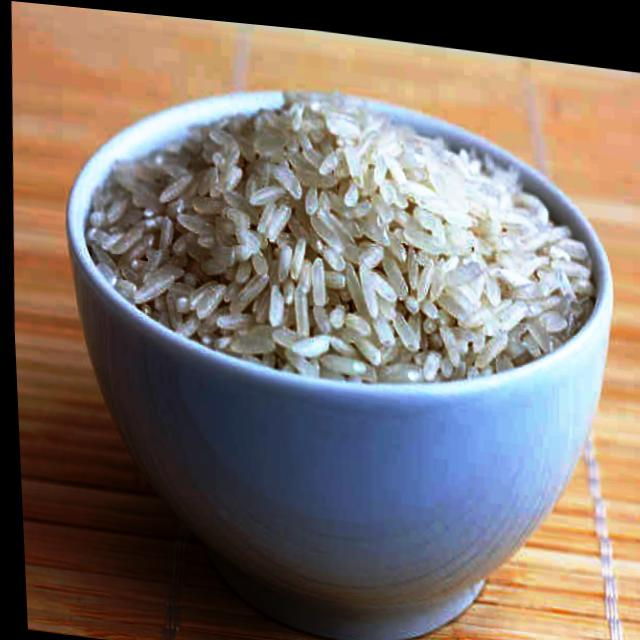rice: (73, 58, 607, 416)
